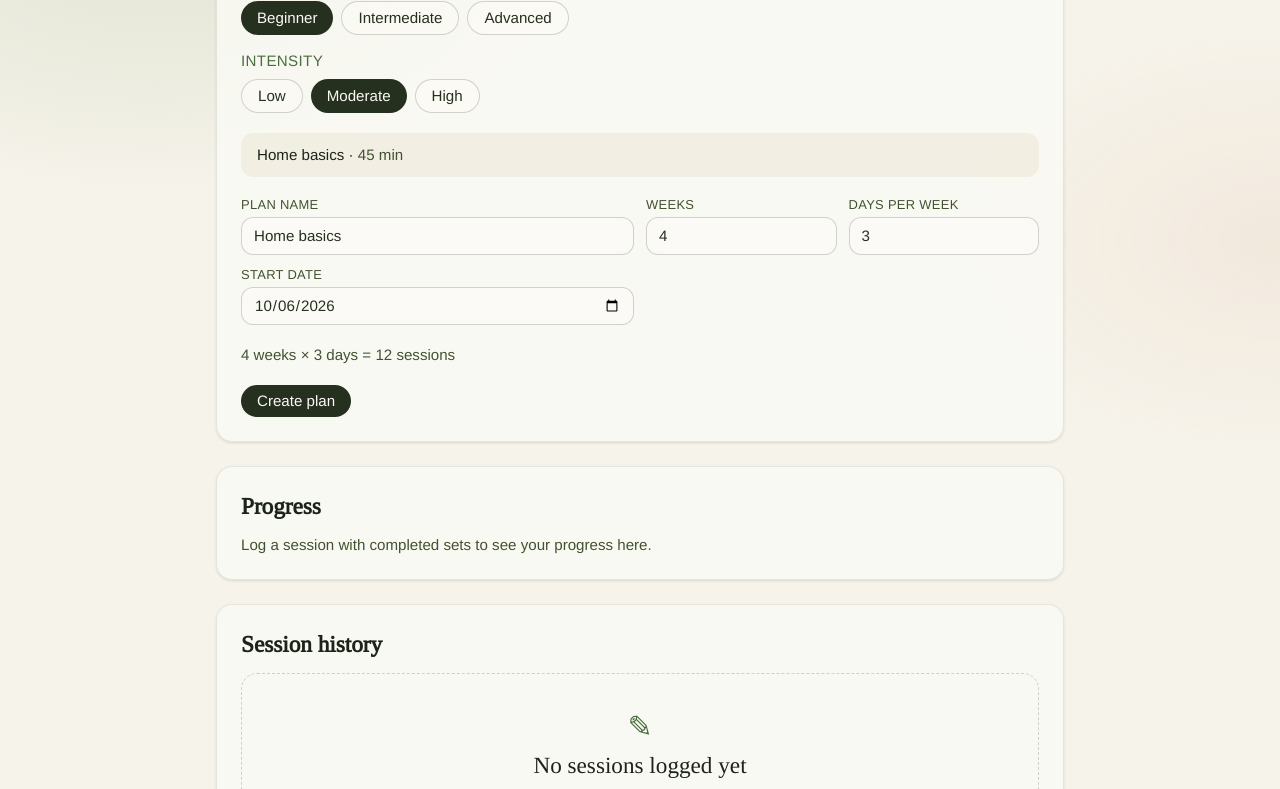
Test case: <PlansPage> — plan builder › shows an alert when the create is refused
(page scrolled)
Click the button "Create plan". click: (296, 400)
box: [241,384,351,416]
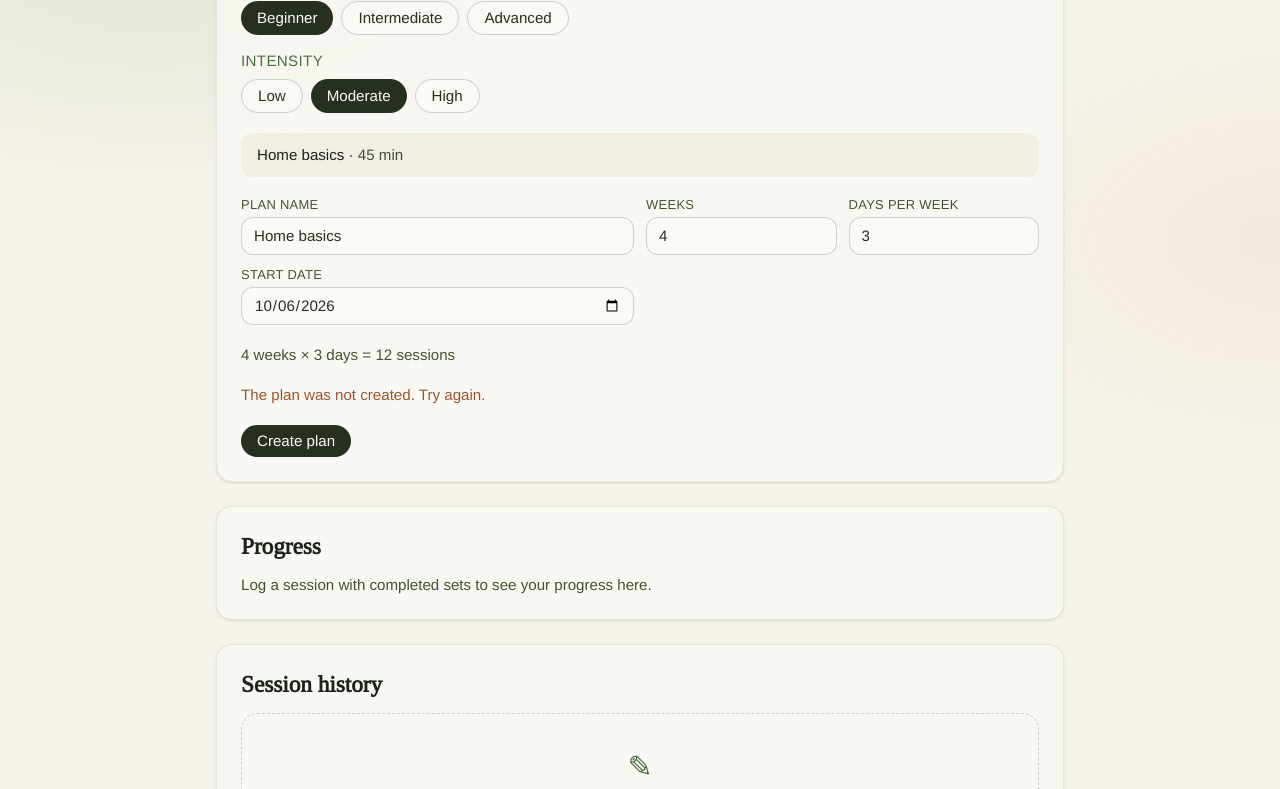
Now the message reads "The plan was not created. Try again.", box [241,386,485,402]
